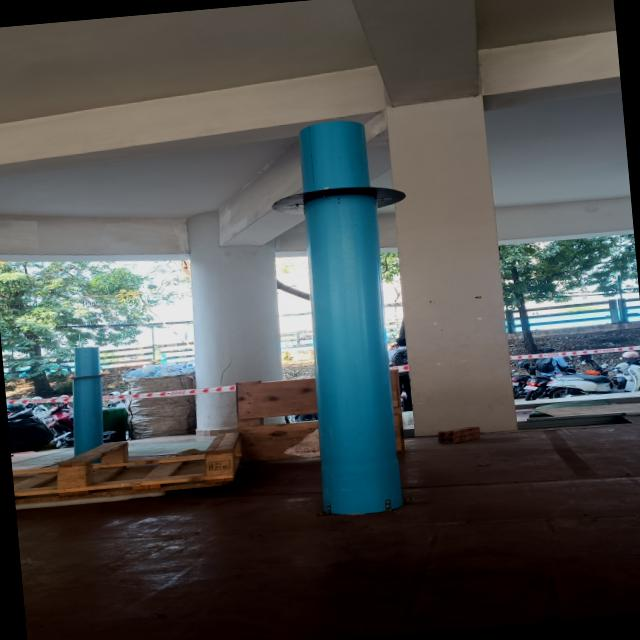pole: (244, 100, 430, 284)
